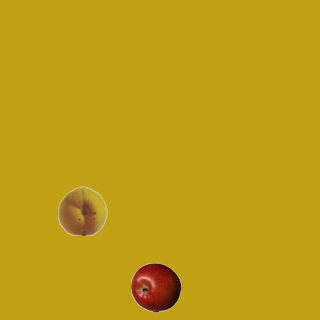Apple Braeburn: (130, 262, 180, 312)
Peach 2: (57, 185, 107, 235)
